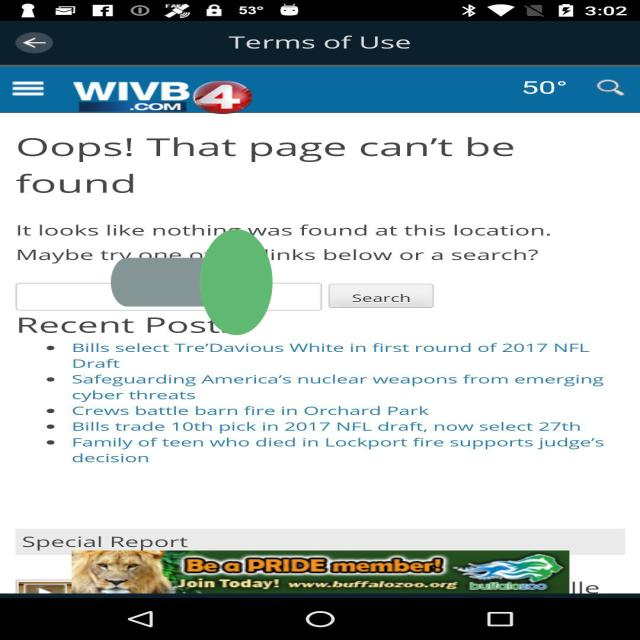social proof: (110, 164, 272, 400)
